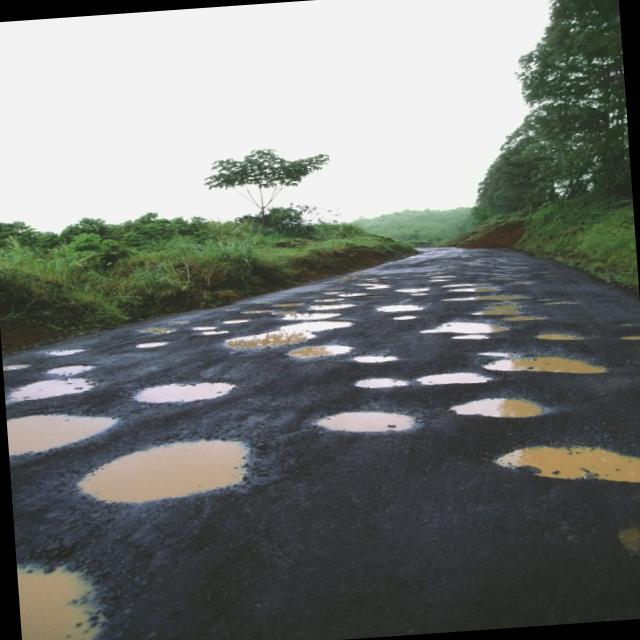Pothole: (74, 414, 240, 522), (473, 425, 640, 517), (15, 545, 165, 640), (358, 354, 526, 402), (466, 341, 612, 389), (5, 404, 142, 454), (233, 323, 379, 360), (406, 306, 509, 353), (96, 380, 274, 404), (462, 389, 563, 425), (3, 374, 126, 403), (440, 290, 528, 328), (245, 298, 344, 328), (314, 407, 400, 435), (332, 351, 418, 374), (286, 342, 368, 362), (120, 330, 180, 352), (524, 325, 580, 348), (366, 301, 429, 321), (180, 322, 224, 348), (2, 358, 52, 380), (204, 304, 250, 324), (502, 318, 556, 333), (607, 328, 640, 352), (37, 345, 88, 358), (54, 366, 94, 378), (386, 314, 430, 323), (548, 304, 590, 310)
